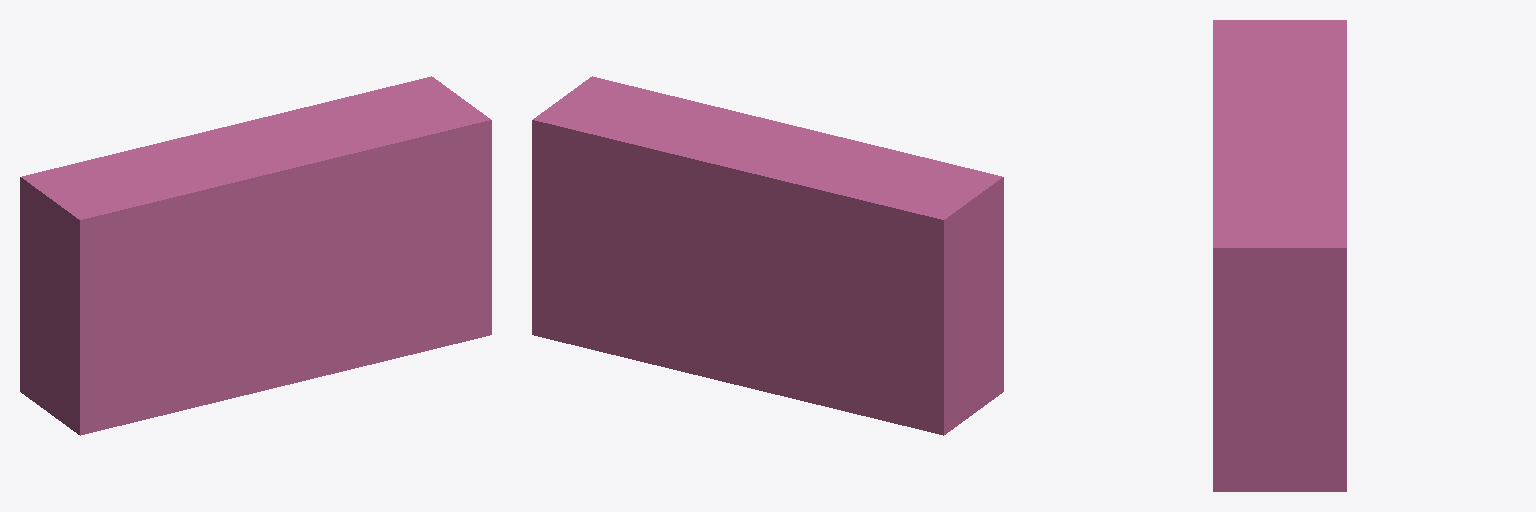
robot.urdf — SlidingBrick:
<?xml version="1.0"?>
<robot xmlns="http://drake.mit.edu"
 xmlns:xsi="http://www.w3.org/2001/XMLSchema-instance"
 xsi:schemaLocation="http://drake.mit.edu ../../../../doc/drakeURDF.xsd" name="SlidingBrick">

 <!-- This emulates an actuated floating rpy joint.  Drake only allows actuators
 to be applied to single-dof joints (see issue #4153).  So, we composite the six
 degrees of freedom as a hierarchy of joints.  The hierarchy looks like this:

 world -F-
   xtrans -Px-
     ytrans -Py-
       xtrans -Pz-
         xrot -Rx-
           yrot -Ry-
             zrot -Rz-
               Brick

 The symbol "-X-" represents a one-dof joint between the parent body to
 its left and the child body below it.  The value of X is one of:
    F: A fixed joint
    Pi: A prismatic joint along the world frame's axis i, i ∈ {x, y, z}
    Ri: A revolute joint along the world frame's axis i, i ∈ {x, y, z}

 The fixed joint is implied by how the URDF is added to the tree.  In all other
 cases, the joint of the body and the name of the body's parent are coordinated.
 TODO(SeanCurtis-TRI): Add link to contact model documentation.
 -->
  <link name="xtrans"/>
  <link name="ytrans"/>
  <link name="ztrans"/>
  <link name="xrot"/>
  <link name="yrot"/>
  <link name="zrot"/>
  <link name="brick">
    <inertial>
      <mass value="50"/>
      <inertia ixx="50" ixy="0" ixz="0" iyy="100" iyz="0" izz="100"/>
    </inertial>
    <visual>
      <geometry>
        <box size="2 .5 1" />
      </geometry>
    </visual>
  </link>

  <joint name="xslide" type="prismatic">
    <origin rpy="0 0 0" xyz="0 0 0.5"/>
    <axis xyz="1 0 0"/>
    <parent link="xtrans"/>
    <child link="ytrans"/>
  </joint>
  <joint name="yslide" type="prismatic">
    <origin rpy="0 0 0" xyz="0 0 0"/>
    <axis xyz="0 1 0"/>
    <parent link="ytrans"/>
    <child link="ztrans"/>
  </joint>
  <joint name="zslide" type="prismatic">
    <origin rpy="0 0 0" xyz="0 0 0"/>
    <axis xyz="0 0 1"/>
    <parent link="ztrans"/>
    <child link="xrot"/>
  </joint>
  <joint name="xspin" type="revolute">
    <origin rpy="0 0 0" xyz="0 0 0"/>
    <axis xyz="1 0 0"/>
    <parent link="xrot"/>
    <child link="yrot"/>
  </joint>
  <joint name="yspin" type="revolute">
    <origin rpy="0 0 0" xyz="0 0 0"/>
    <axis xyz="0 1 0"/>
    <parent link="yrot"/>
    <child link="zrot"/>
  </joint>
  <joint name="zspin" type="revolute">
    <origin rpy="0 0 0" xyz="0 0 0"/>
    <axis xyz="0 0 1"/>
    <parent link="zrot"/>
    <child link="brick"/>
  </joint>

</robot>

--- Render facts (derived) ---
The picture shows the robot from 3 angles, left to right: view 1: azimuth 30°, elevation 25°; view 2: azimuth 150°, elevation 25°; view 3: azimuth 270°, elevation 25°; orthographic projection.
Robot: SlidingBrick — 7 links, 6 joints (3 revolute, 3 prismatic); root link xtrans; default pose: all joints at 0.
Links seen in each view (by area): view 1: brick; view 2: brick; view 3: brick.
Boxes of the visible links, left/top/right/bottom form: brick: left=20, top=76, right=491, bottom=435; brick: left=532, top=76, right=1003, bottom=435; brick: left=1213, top=20, right=1346, bottom=491.
Bounding box of the posed robot: 2 × 0.5 × 1 m (x, y, z).
Geometry: primitives only (box / cylinder / sphere), no mesh files.
